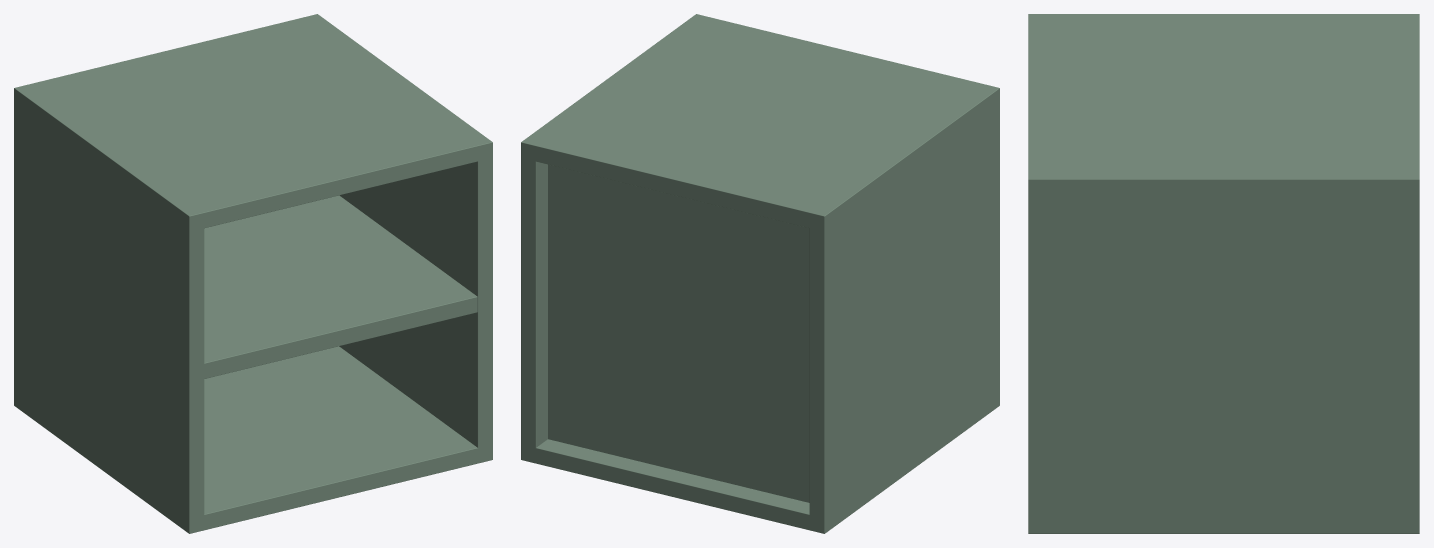
The model's file is MOD_1X1_S_B_VA.glb.
3 renders of one model, left to right at view 1: azimuth 30°, elevation 25°; view 2: azimuth 150°, elevation 25°; view 3: azimuth 270°, elevation 25°, orthographic. The views are drawn at different scales.
Size of the model in its own units: 360 by 360 by 360.
